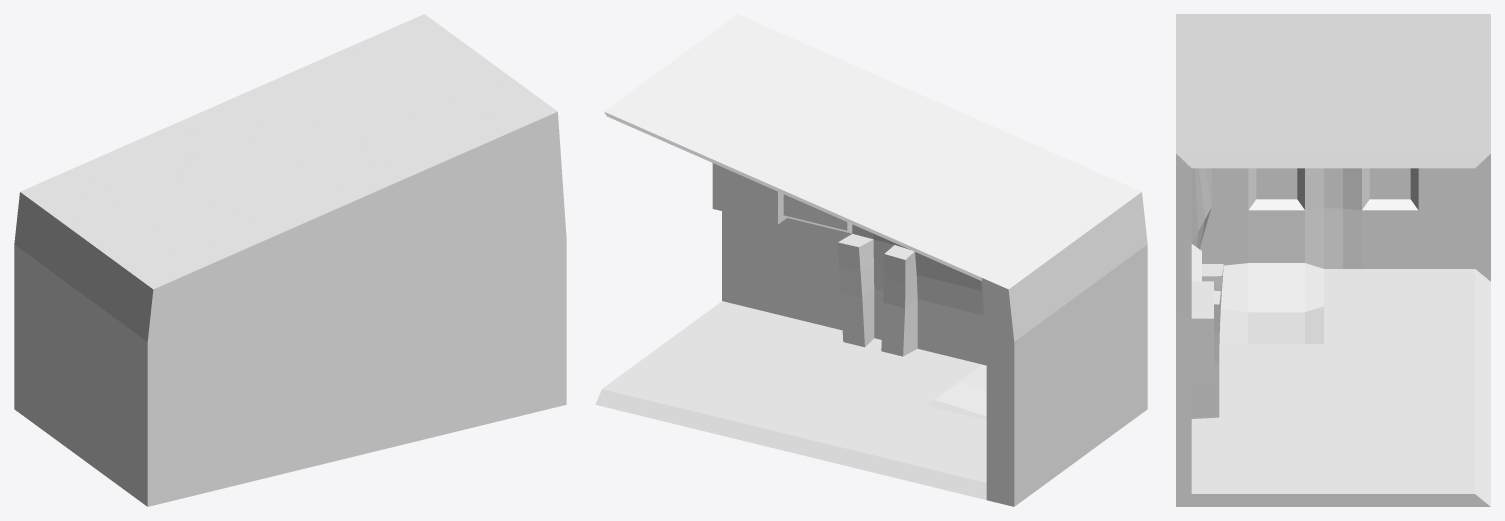
File: room.gltf
3 renders of one model, left to right at view 1: azimuth 30°, elevation 25°; view 2: azimuth 150°, elevation 25°; view 3: azimuth 270°, elevation 25°, orthographic. The views are drawn at different scales.
Visible parts, largest first — view 1: Cube; view 2: Cube; view 3: Cube.
Part boxes in pixels (bbox=[...]): Cube: bbox=[14, 14, 566, 506]; Cube: bbox=[595, 14, 1147, 506]; Cube: bbox=[1176, 14, 1490, 506].
Bounding box in the file's own units: 13.99 × 9.42 × 7.71.
1 material, 1 textured.
